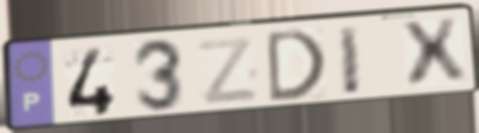3: (131, 35, 187, 117)
4: (64, 45, 119, 118)
D: (264, 27, 328, 107)
I: (335, 23, 364, 98)
X: (396, 15, 471, 92)
Z: (193, 34, 262, 107)
